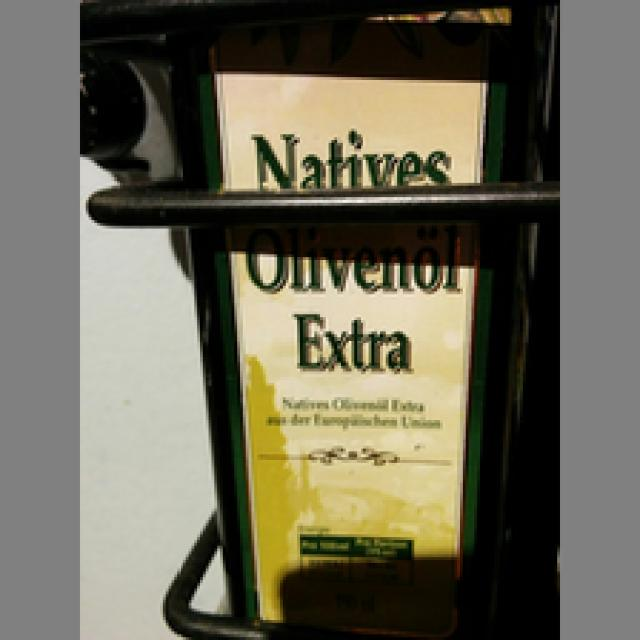groceries: (166, 0, 523, 626)
